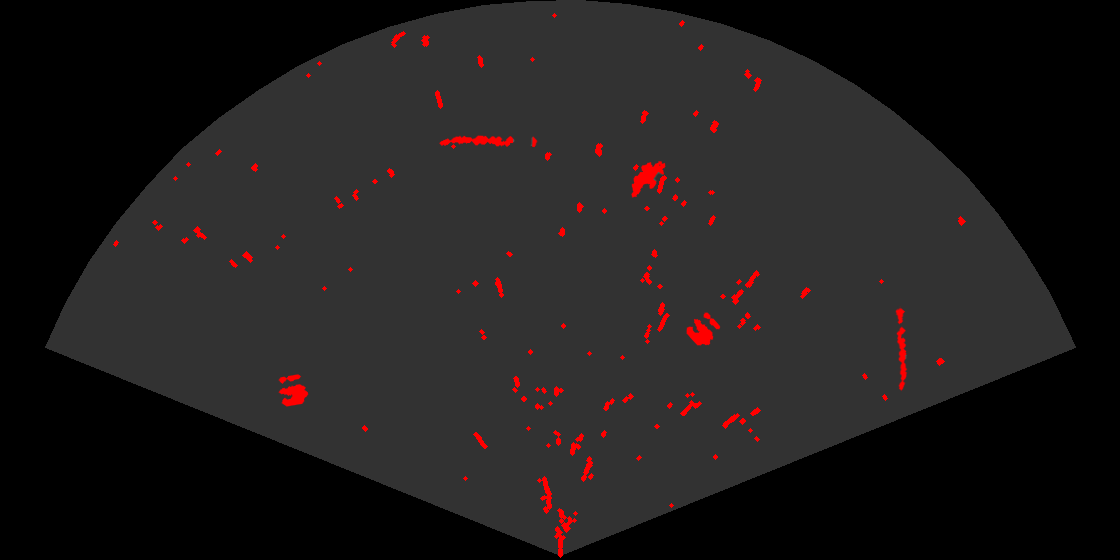AUV: (630, 159, 667, 199)
ball: (685, 311, 722, 347), (277, 373, 310, 408)
chain: (438, 134, 539, 149), (894, 306, 909, 392)
